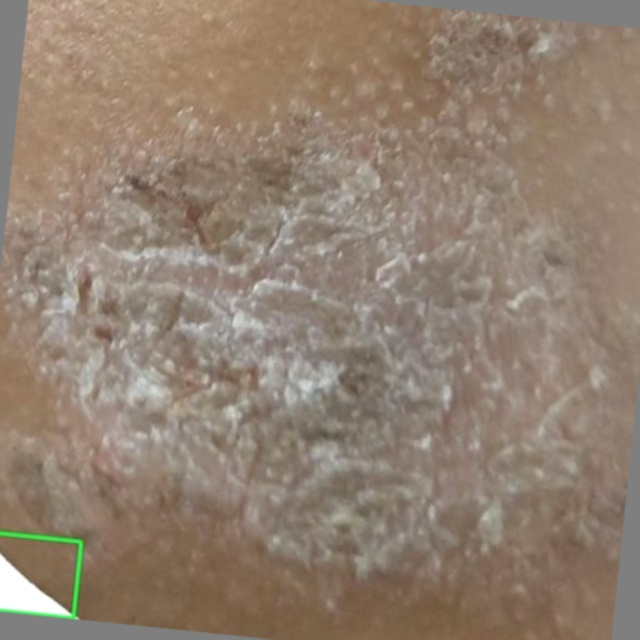Contact Dermatitis: (0, 533, 81, 618)
